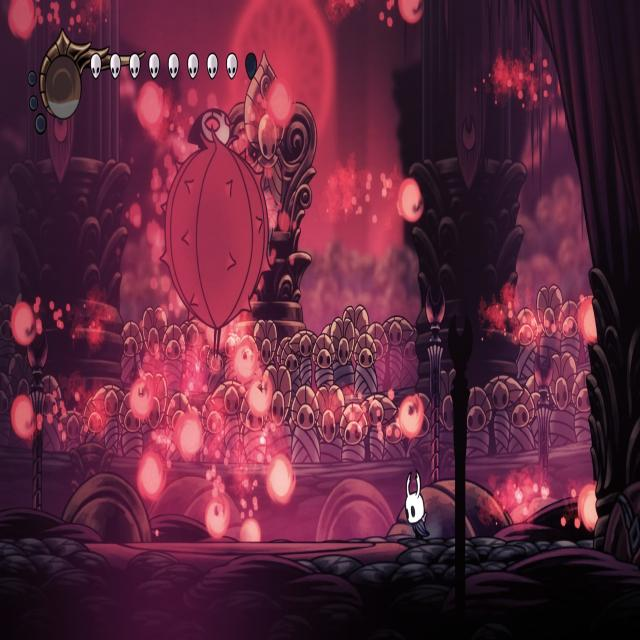Player: (404, 464, 434, 544)
Pufferfish: (158, 107, 274, 366)
Tiny Fireballs: (136, 80, 166, 139), (137, 452, 165, 502), (175, 413, 203, 461), (268, 456, 294, 504), (269, 81, 294, 128), (10, 395, 36, 440), (398, 178, 423, 224), (248, 374, 274, 416), (8, 0, 36, 39), (234, 340, 259, 383), (13, 303, 37, 346), (129, 380, 153, 422), (399, 396, 423, 438), (206, 496, 230, 538), (579, 297, 600, 344), (579, 485, 599, 532), (398, 0, 422, 25), (240, 518, 261, 542)
